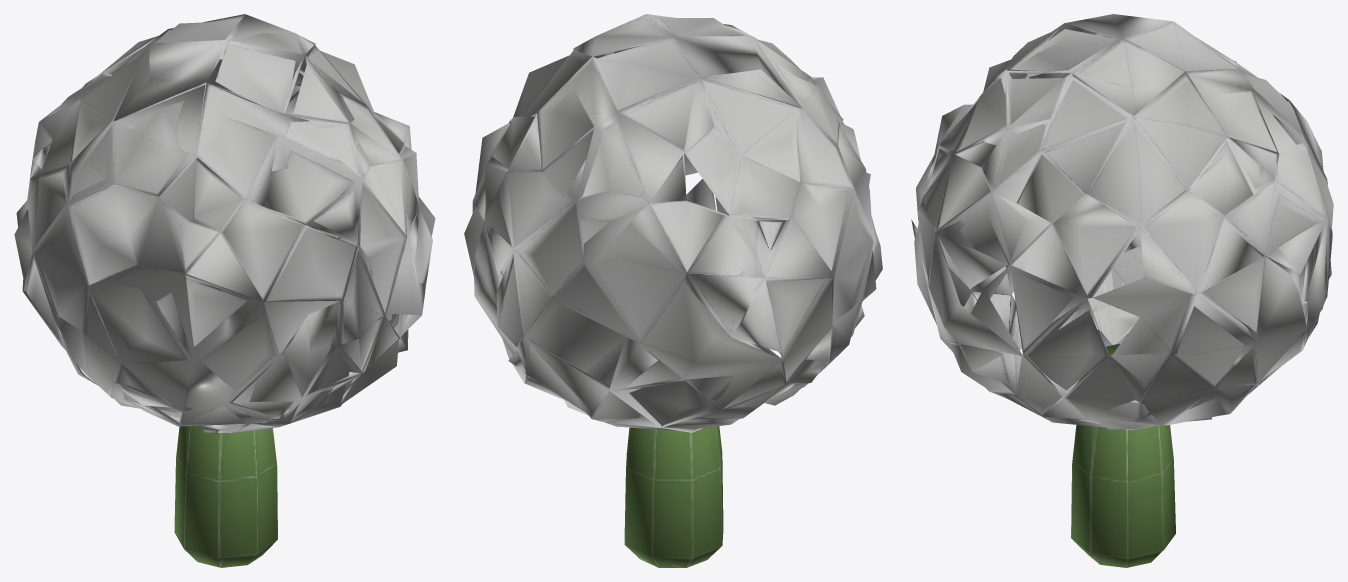
The model's file is f221719d-d4a2-47fc-8e21-893d2f1fca45_model.glb.
3 views of the same model, side by side, from view 1: azimuth 30°, elevation 25°; view 2: azimuth 150°, elevation 25°; view 3: azimuth 270°, elevation 25° (orthographic).
Parts seen in each view (by area): view 1: tripo_node_f221719d-d4a2-47fc-8e21-893d2f1fca45; view 2: tripo_node_f221719d-d4a2-47fc-8e21-893d2f1fca45; view 3: tripo_node_f221719d-d4a2-47fc-8e21-893d2f1fca45.
Boxes of the visible parts, bbox=[...] form: tripo_node_f221719d-d4a2-47fc-8e21-893d2f1fca45: bbox=[14, 14, 435, 567]; tripo_node_f221719d-d4a2-47fc-8e21-893d2f1fca45: bbox=[464, 14, 882, 567]; tripo_node_f221719d-d4a2-47fc-8e21-893d2f1fca45: bbox=[911, 14, 1333, 567].
Bounding box in the file's own units: 0.7174 × 1 × 0.7437.
Materials: 1 (1 with a texture image).
